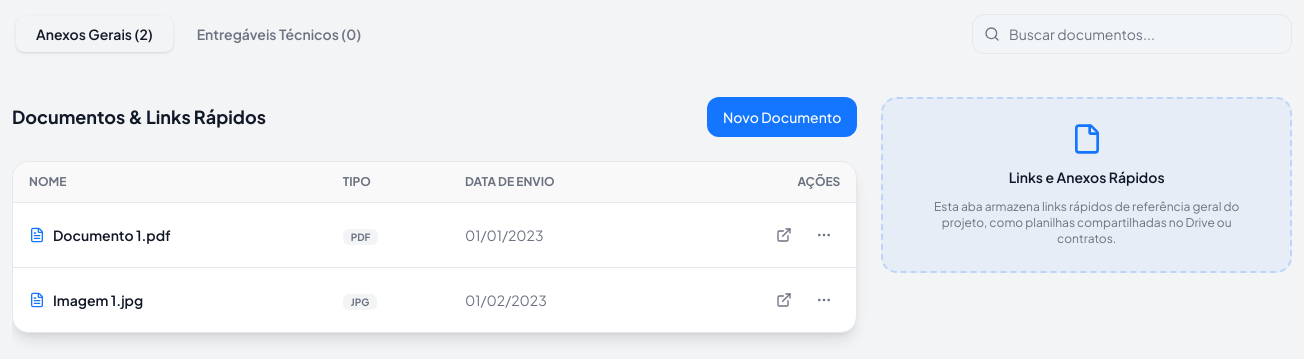
Scenario: ProjectDocumentsTab › filters documents by search query
The width and height of the screenshot is (1304, 359).
Type "Documento" into the field with placeholder "Buscar documentos..." at (1132, 34), box [972,14,1292,54]
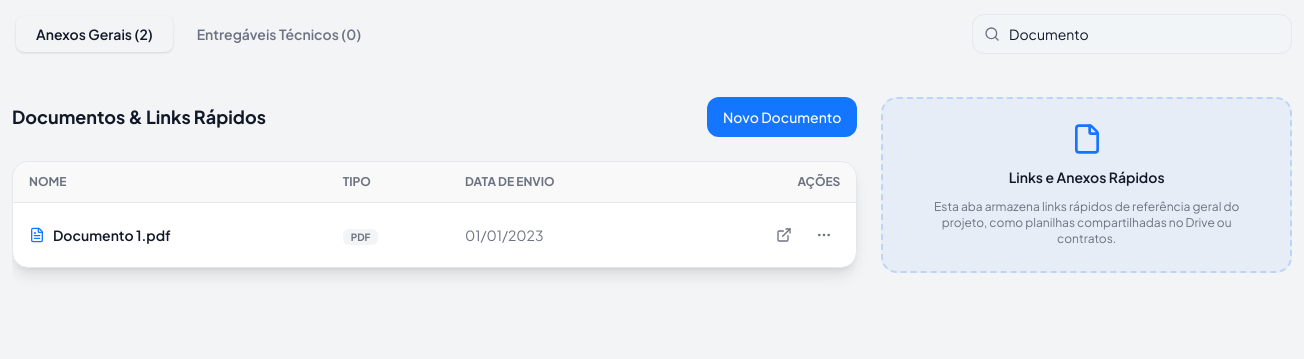
Check: the text "Documento 1.pdf" is shown, box [53,225,171,245]
Check: the text "Imagem 1.jpg" is gone
